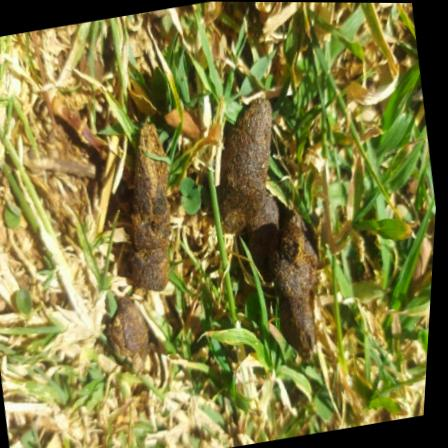dog-poop: (204, 88, 347, 369), (72, 111, 212, 373)
